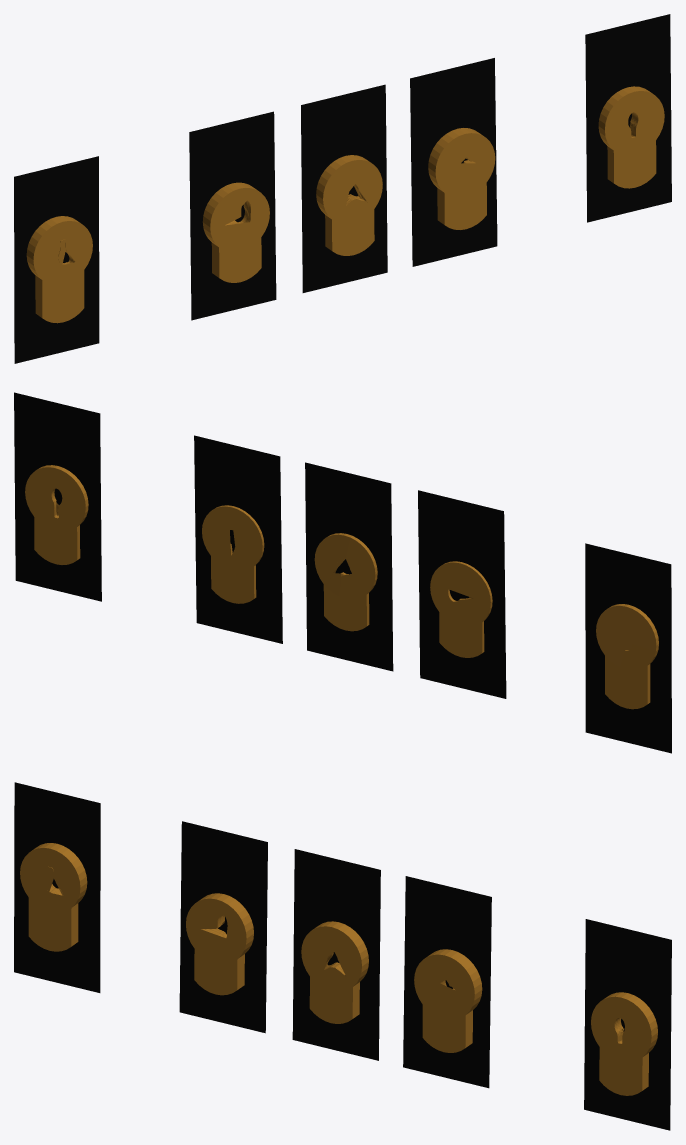
File: Cerradura.fbx
3 renders of one model, top to bottom at view 1: azimuth 30°, elevation 25°; view 2: azimuth 150°, elevation 25°; view 3: azimuth 330°, elevation 25°, orthographic.
Parts seen in each view (by area): view 1: Cerradura2, Cerradura4, Cerradura3, Cerradura1, Cierradura5; view 2: Cierradura5, Cerradura1, Cerradura3, Cerradura4, Cerradura2; view 3: Cerradura2, Cerradura4, Cerradura3, Cerradura1, Cierradura5.
Part boxes in pixels (left/top/right/bottom): Cerradura2: left=410, top=58, right=497, bottom=266; Cerradura4: left=189, top=111, right=276, bottom=320; Cerradura3: left=301, top=84, right=387, bottom=292; Cerradura1: left=585, top=14, right=671, bottom=222; Cierradura5: left=14, top=156, right=99, bottom=363; Cierradura5: left=585, top=543, right=671, bottom=753; Cerradura1: left=14, top=392, right=101, bottom=601; Cerradura3: left=305, top=462, right=393, bottom=671; Cerradura4: left=418, top=490, right=506, bottom=698; Cerradura2: left=194, top=435, right=282, bottom=643; Cerradura2: left=403, top=876, right=491, bottom=1088; Cerradura4: left=179, top=821, right=267, bottom=1033; Cerradura3: left=292, top=849, right=380, bottom=1060; Cerradura1: left=584, top=919, right=671, bottom=1130; Cierradura5: left=14, top=782, right=100, bottom=992.
Size of the model in its own units: 3281 by 932 by 149.
